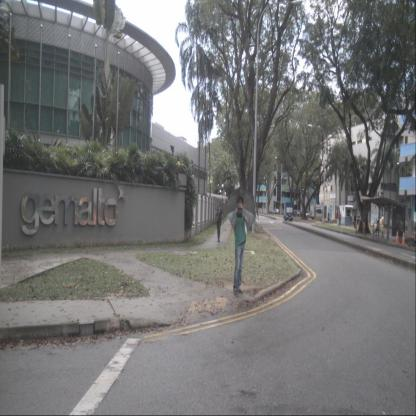cone: (395, 230, 400, 247), (410, 228, 415, 244), (402, 230, 406, 247)
